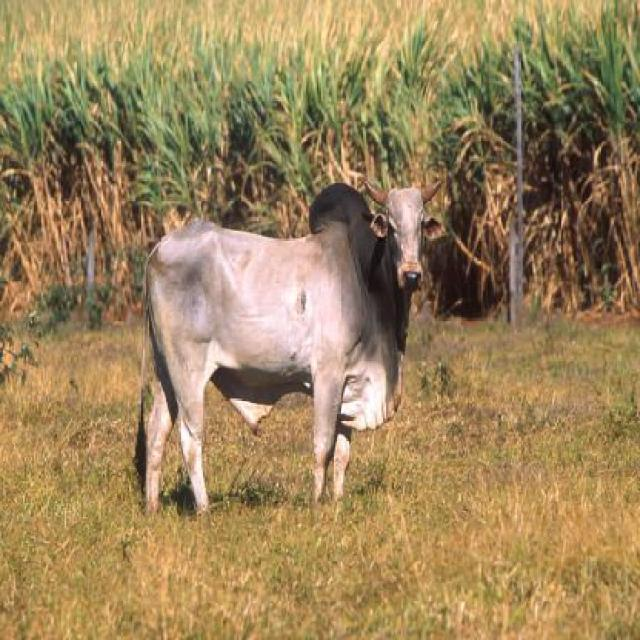Cow: (128, 169, 444, 523)
